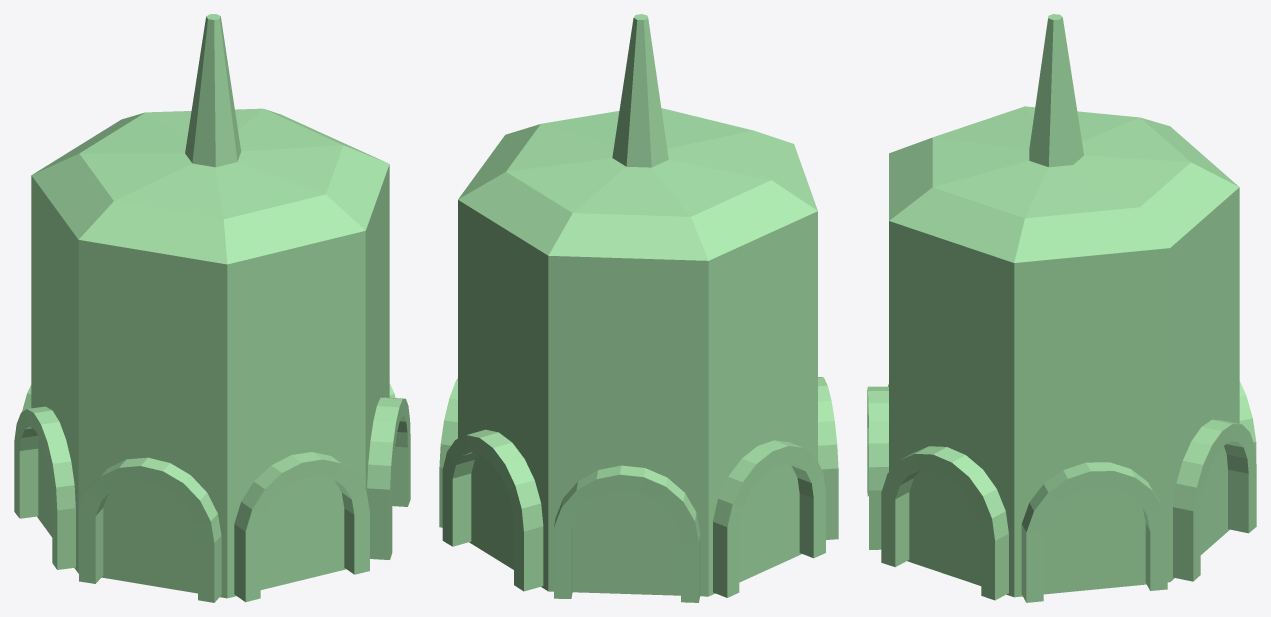
The picture shows the model from 3 angles, left to right: view 1: azimuth 30°, elevation 25°; view 2: azimuth 150°, elevation 25°; view 3: azimuth 270°, elevation 25°; orthographic projection.
Parts seen in each view (by area): view 1: base; view 2: base; view 3: base.
Part boxes in pixels (x1,y1,x2,y2): base: (14, 14, 410, 602); base: (439, 14, 838, 602); base: (867, 14, 1256, 602).
Size of the model in its own units: 214 by 302 by 211.
